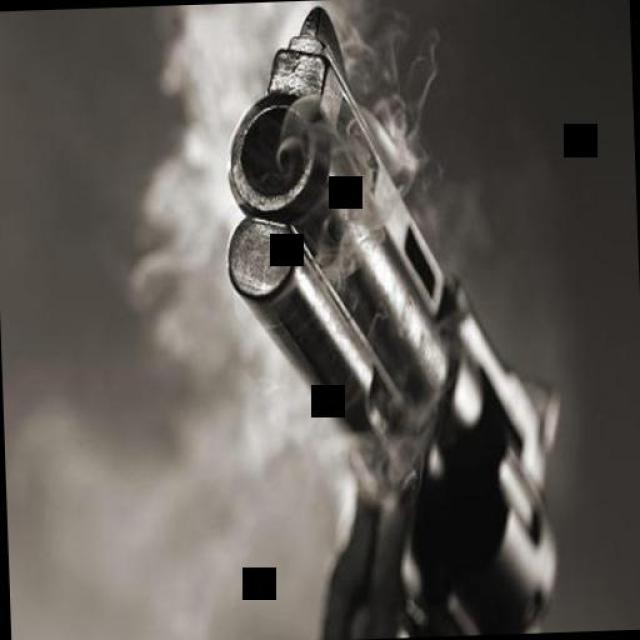gun: (227, 0, 568, 640)
